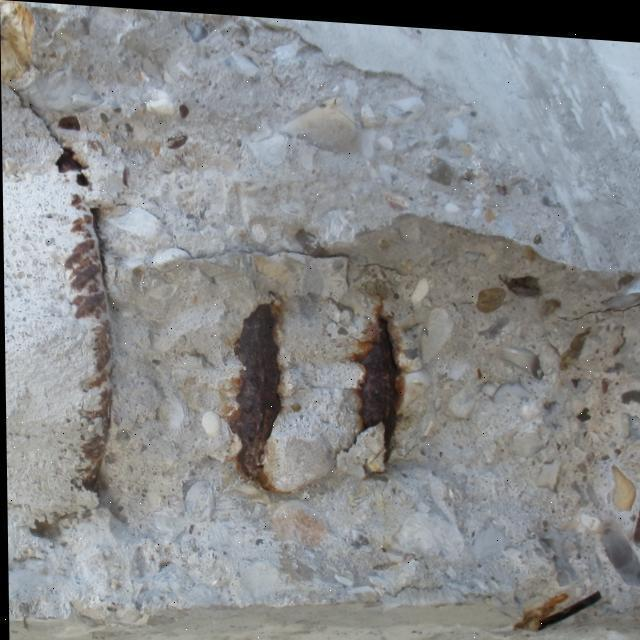D0w0: (14, 30, 633, 629)
